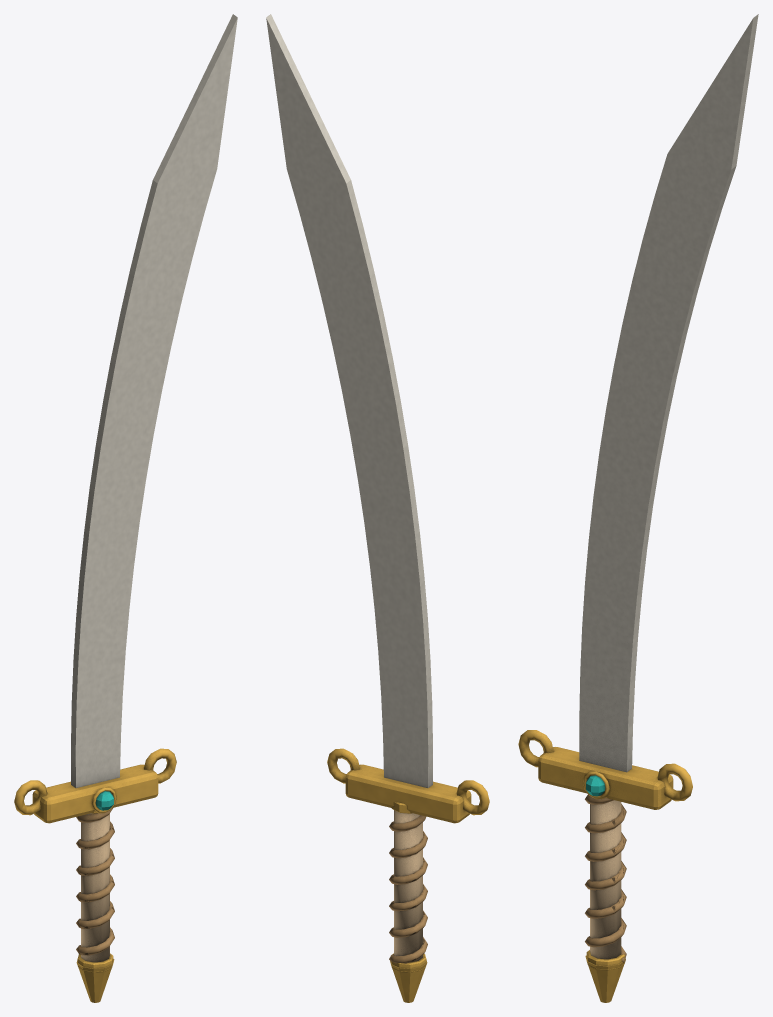
File: 02_desert_sword.fbx
3 views of the same model, side by side, from view 1: azimuth 30°, elevation 25°; view 2: azimuth 150°, elevation 25°; view 3: azimuth 330°, elevation 25° (orthographic). The views are drawn at different scales.
Visible parts, largest first — view 1: Weapon; view 2: Weapon; view 3: Weapon.
Boxes of the visible parts, box(x1,y1,x2,y2) form: Weapon: box(14, 14, 237, 1002); Weapon: box(266, 14, 489, 1002); Weapon: box(518, 14, 758, 1002).
Size of the model in its own units: 30.68 by 126 by 5.63.
Materials: 1 (1 with a texture image).
